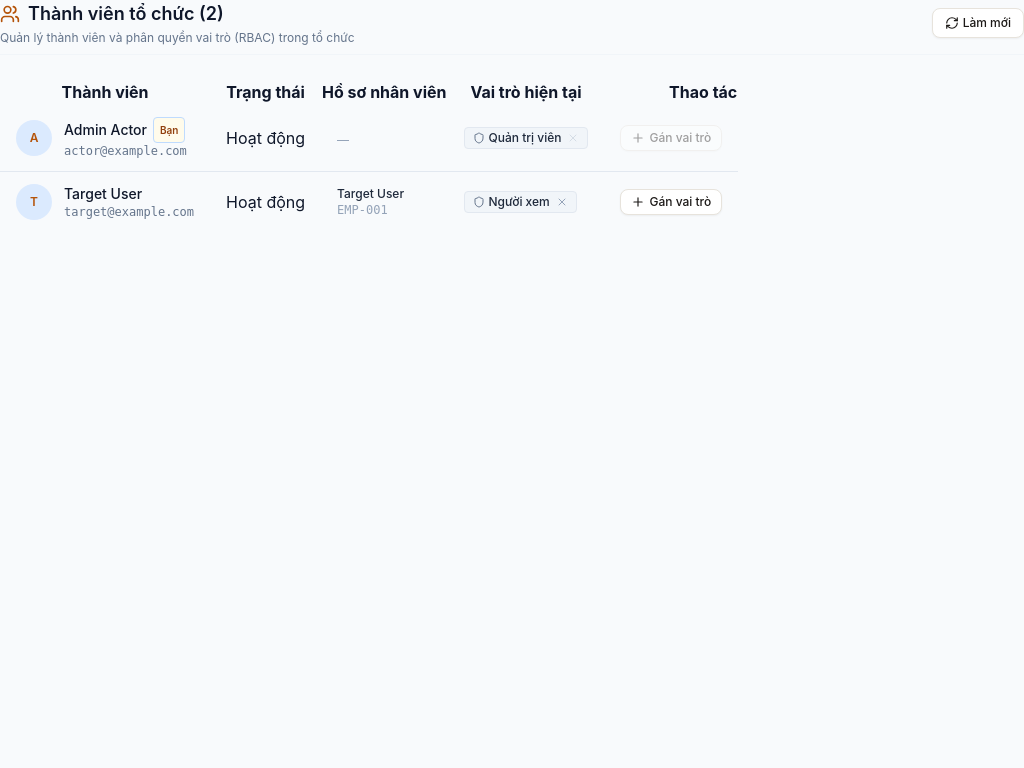
Test: DXOS-FRONTEND-004: Members & Role Administration Tests › displays safe error message when assignRole returns 403 Forbidden
Expected: the 1st text "Target User" is shown, [64,184,142,204]
Click the button "Gán vai trò" in the row of "target@example.com". click: (671, 202)
box: [620,189,722,215]
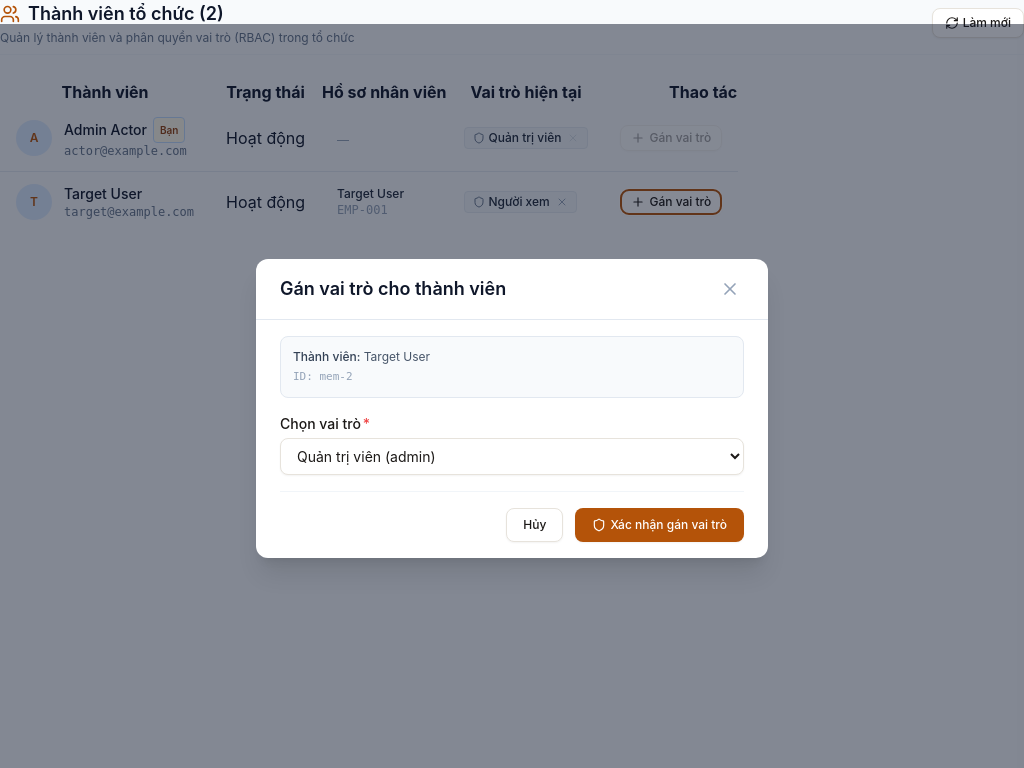
Select "Quản trị viên (admin)" in the dropdown. click: (512, 456)
box: [280,438,744,474]
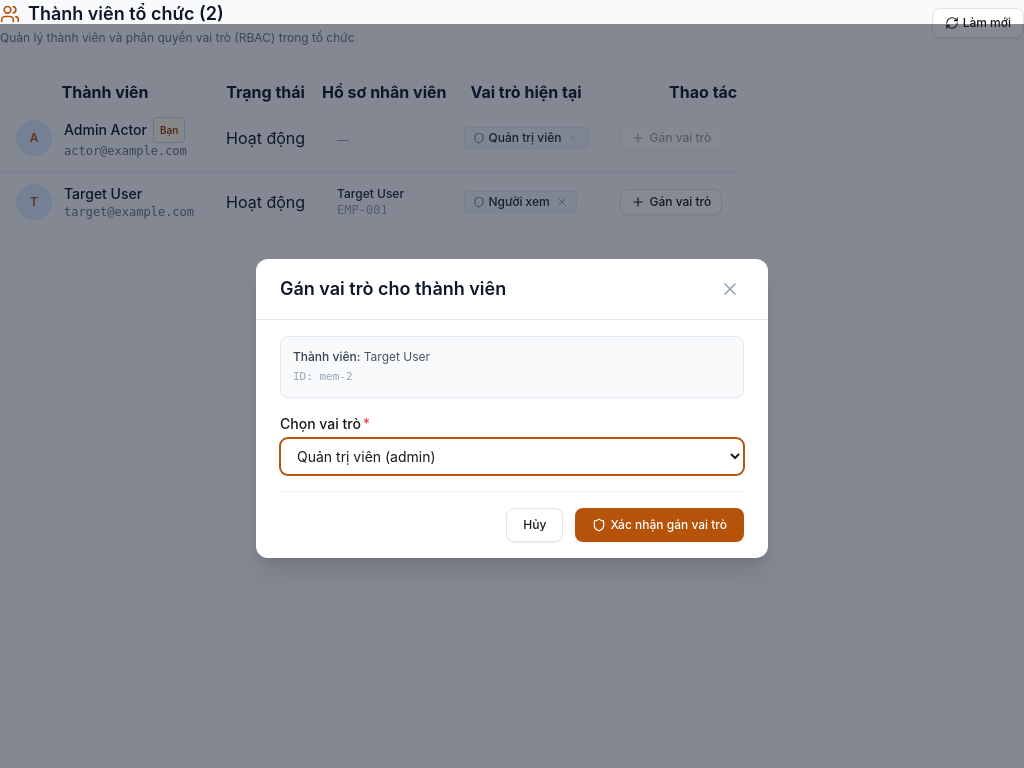
Click the button "Xác nhận gán vai trò". click: (660, 524)
box: [575,508,744,542]
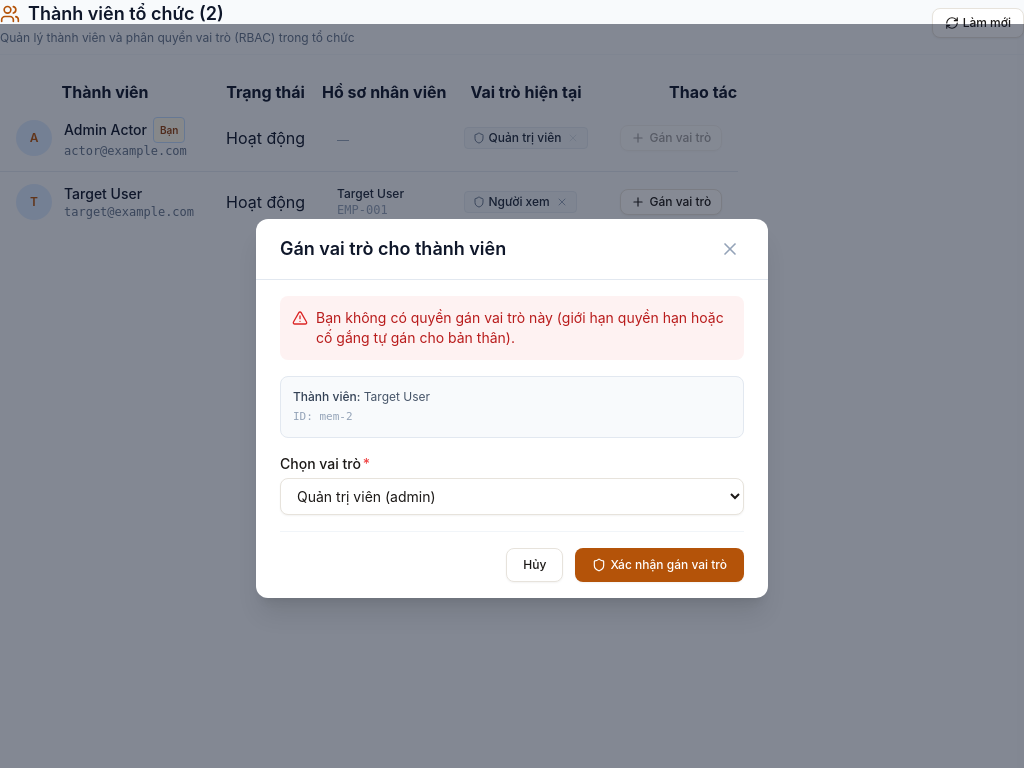
Result: the text "Bạn không có quyền gán vai trò này" is shown at [316,308,724,346]
